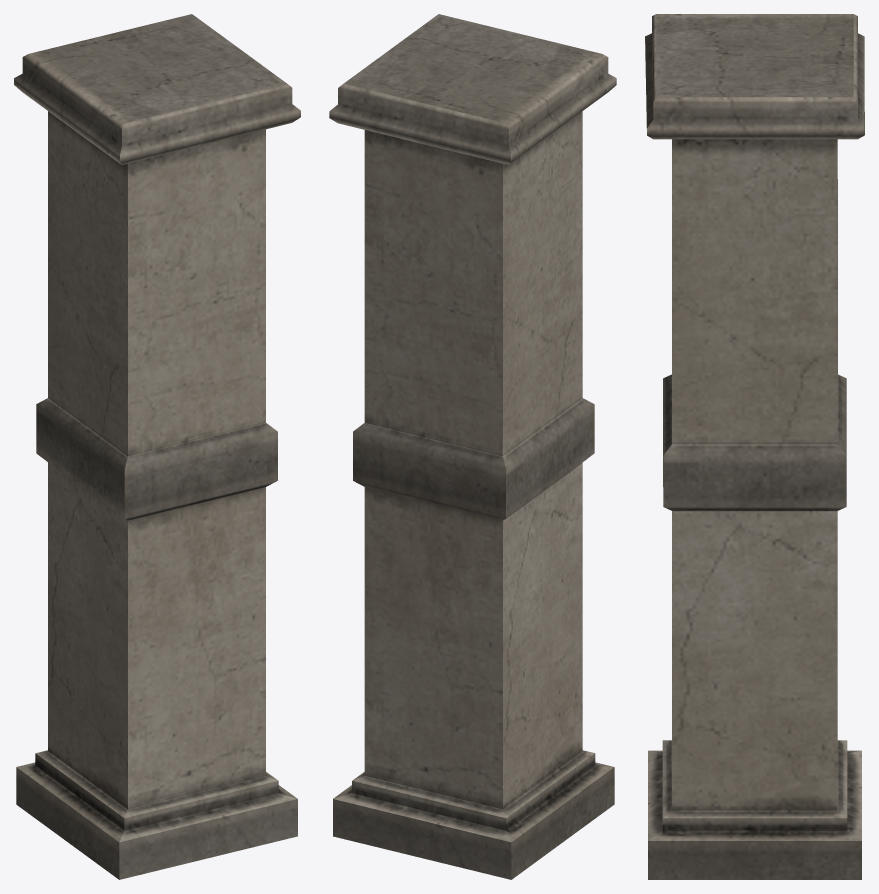
The model's file is MB_Fence_Post_01.fbx.
3 views of the same model, side by side, from view 1: azimuth 30°, elevation 25°; view 2: azimuth 150°, elevation 25°; view 3: azimuth 270°, elevation 25° (orthographic). The views are drawn at different scales.
Visible parts, largest first — view 1: MB_Fence_Post_01; view 2: MB_Fence_Post_01; view 3: MB_Fence_Post_01.
Part boxes in pixels (box(x1,y1,x2,y2)): MB_Fence_Post_01: box(14, 14, 300, 879); MB_Fence_Post_01: box(329, 14, 616, 879); MB_Fence_Post_01: box(645, 14, 864, 879).
Bounding box in the file's own units: 62.42 × 246 × 62.9.
